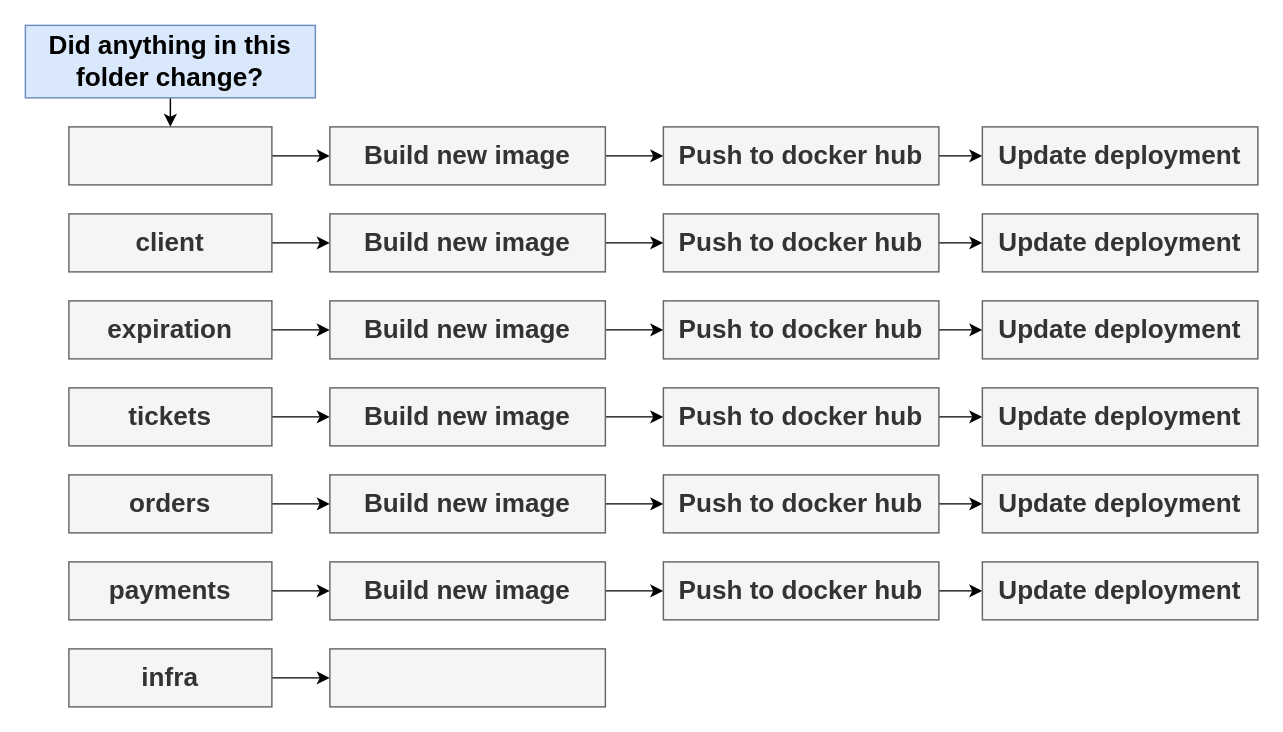
Some shapes in this 1283 by 732 pixel diagram are drawn without their labels. The box of each missing label's shape, as (x1, y1, x2, y2) in pixels:
Apply all yaml files: (328, 647, 605, 707)
auth: (67, 125, 272, 185)
